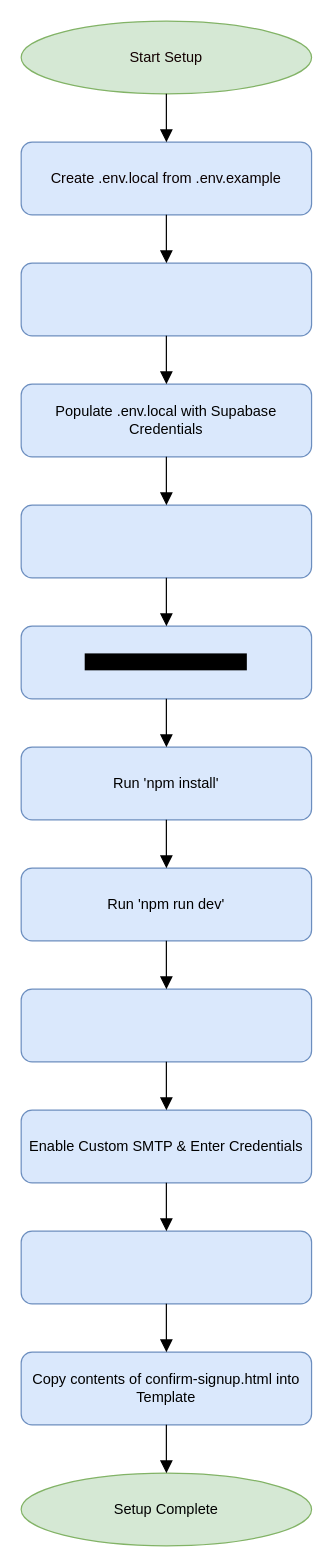
The diagram is 333 pixels wide and 1567 high, and some of its shapes have lost their labels. The shapes that lost their labels are listed below. From the top down, each one's centre as x and y in pixels, then its label:
(166,299): Create New Supabase Project
(166,541): Run 'supabase link' in Terminal
(166,1025): Supabase: Navigate to Auth > Email > SMTP
(166,1267): Navigate to Auth > Email > Confirm Sign Up
